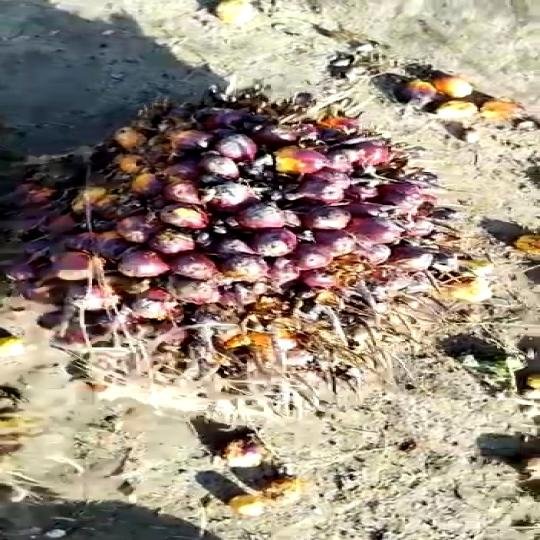masak: (0, 81, 467, 388)
